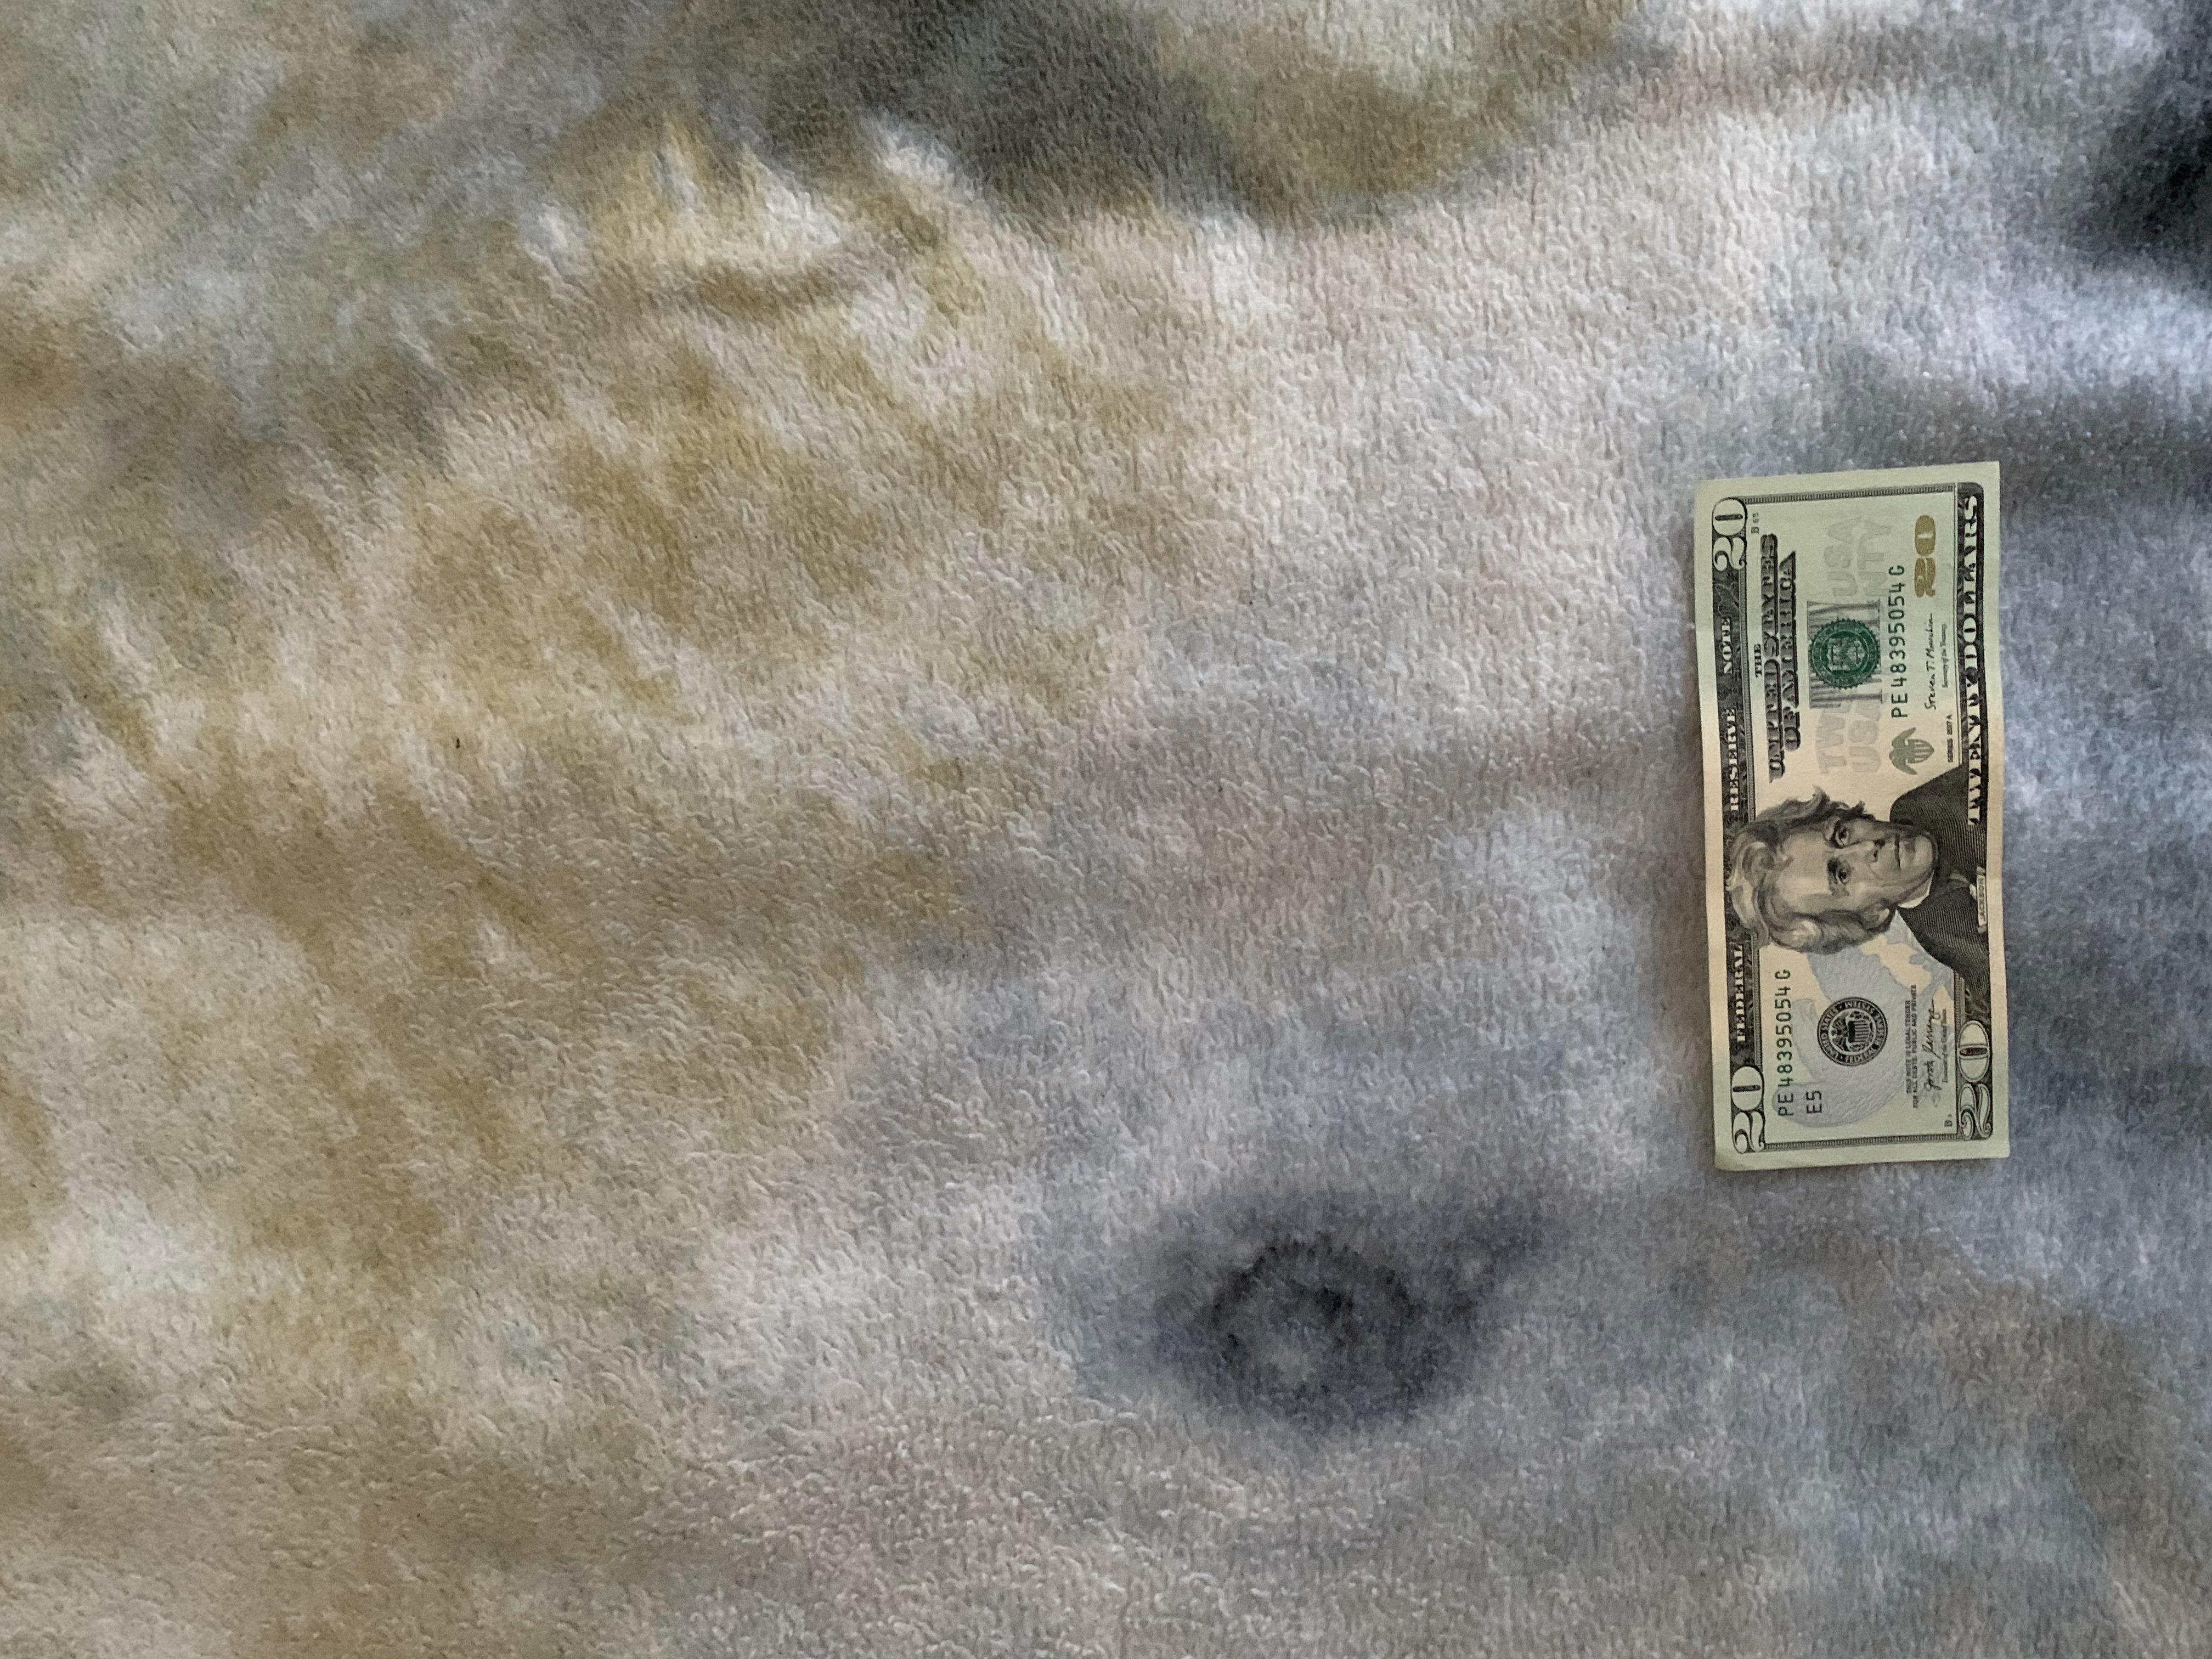TwentyBill: (1696, 457, 2006, 1176)
